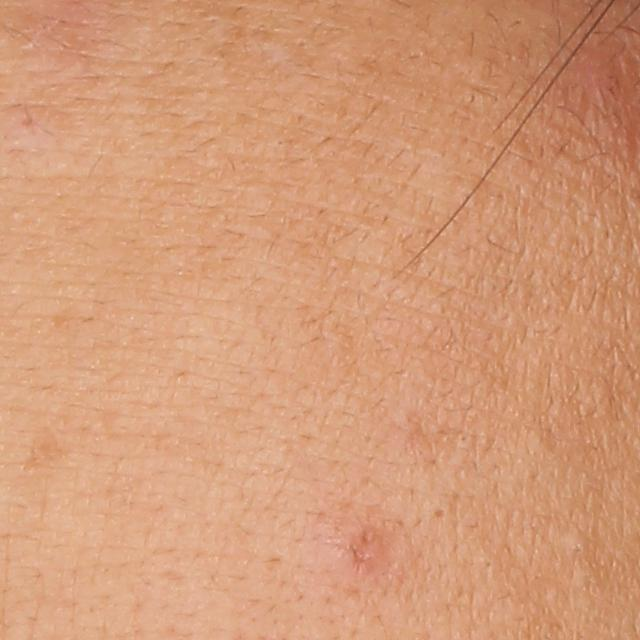comedo: (432, 505, 449, 520)
